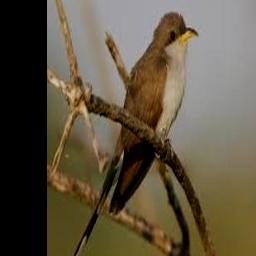Cuckoo: (69, 11, 198, 256)
